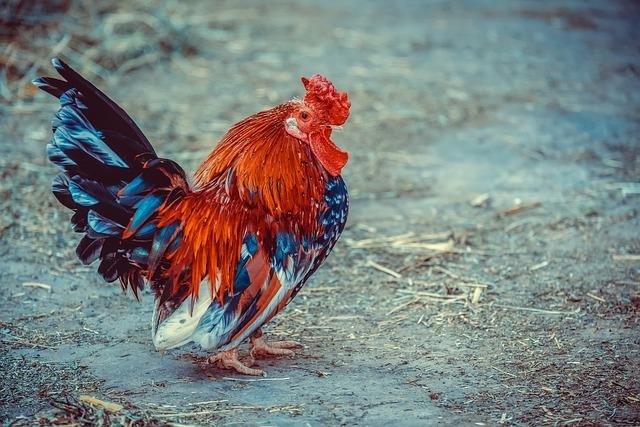Non_Gorille: (4, 0, 553, 427)
